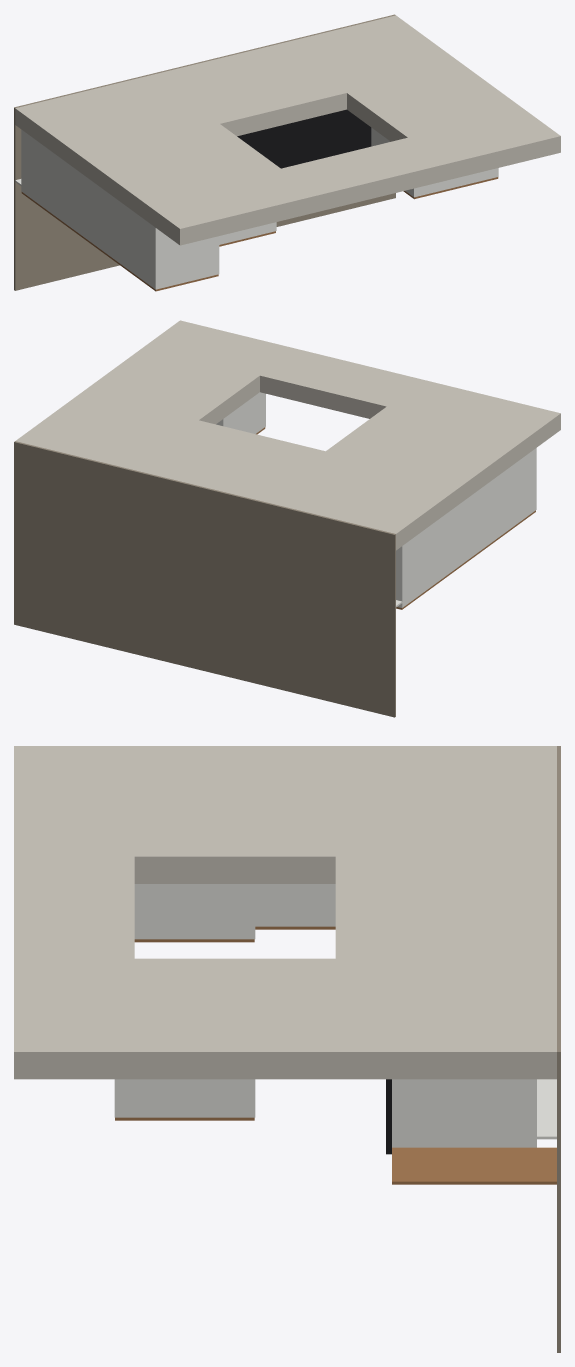
Rendered from Cozinha_Linear_3600.obj.
The picture shows the model from 3 angles, top to bottom: view 1: azimuth 30°, elevation 25°; view 2: azimuth 150°, elevation 25°; view 3: azimuth 270°, elevation 25°; orthographic projection. The views are drawn at different scales.
Visible parts, largest first — view 1: AMBIENTE, M01_tall_cabinet, M02_drawer_cabinet, M07_wall_cabinet, M06_wall_cabinet; view 2: AMBIENTE, M01_tall_cabinet, M07_wall_cabinet; view 3: AMBIENTE, M04_base_cabinet, M06_wall_cabinet, M05_filler, M07_wall_cabinet, M01_tall_cabinet.
Boxes of the visible parts, <box> form: AMBIENTE: <box>14,14,560,290</box>; M01_tall_cabinet: <box>15,129,219,291</box>; M02_drawer_cabinet: <box>237,109,371,168</box>; M07_wall_cabinet: <box>371,127,498,199</box>; M06_wall_cabinet: <box>219,222,276,246</box>; AMBIENTE: <box>14,320,560,717</box>; M01_tall_cabinet: <box>396,448,536,609</box>; M07_wall_cabinet: <box>216,392,265,434</box>; AMBIENTE: <box>14,746,560,1352</box>; M04_base_cabinet: <box>392,1079,556,1147</box>; M06_wall_cabinet: <box>134,884,255,942</box>; M05_filler: <box>392,1147,556,1184</box>; M07_wall_cabinet: <box>114,1079,255,1120</box>; M01_tall_cabinet: <box>255,884,335,929</box>.
Size of the model in its own units: 3600 by 1650 by 2720.
